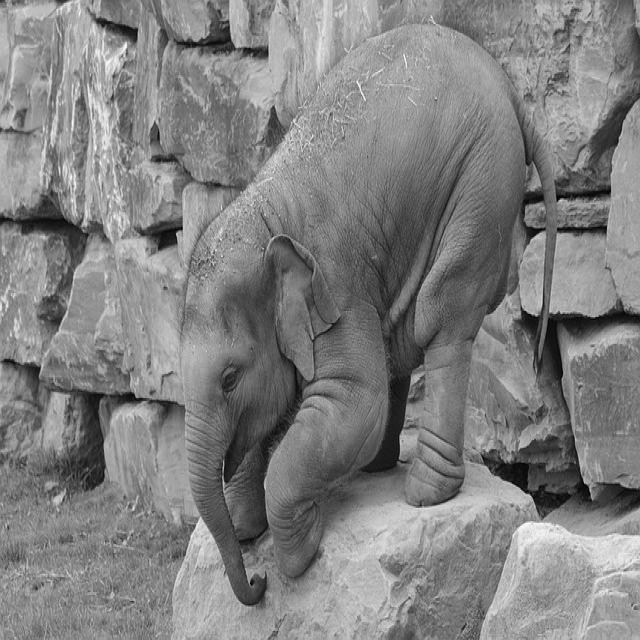elephant: (181, 24, 555, 604)
